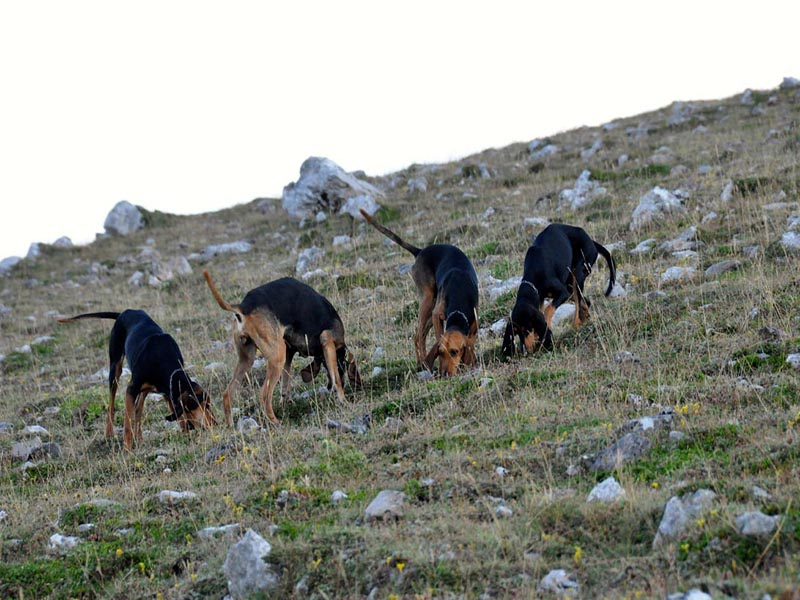cane da caccia: (51, 300, 216, 467), (202, 261, 373, 418), (354, 206, 492, 372), (501, 220, 628, 354)
